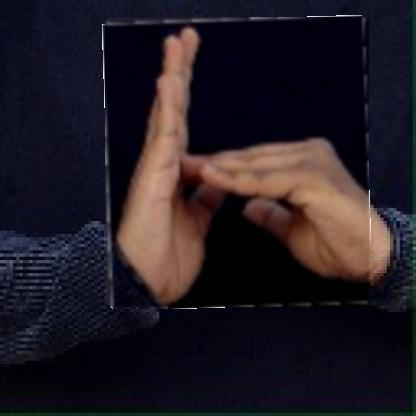Z: (105, 17, 370, 308)
